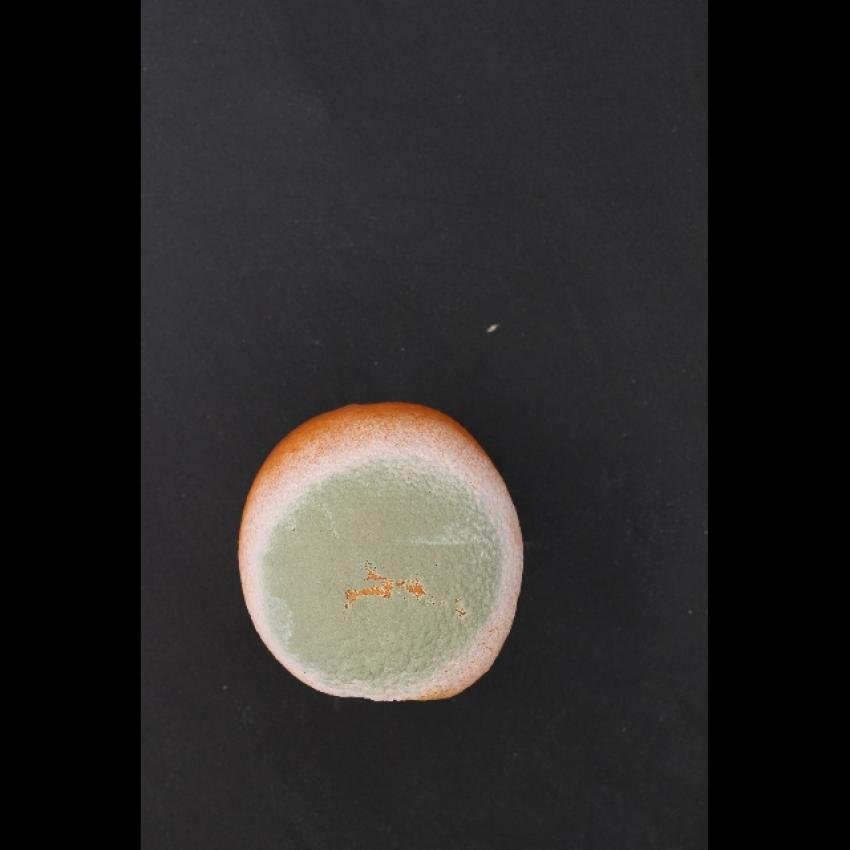Mal estado: (232, 388, 535, 716)
